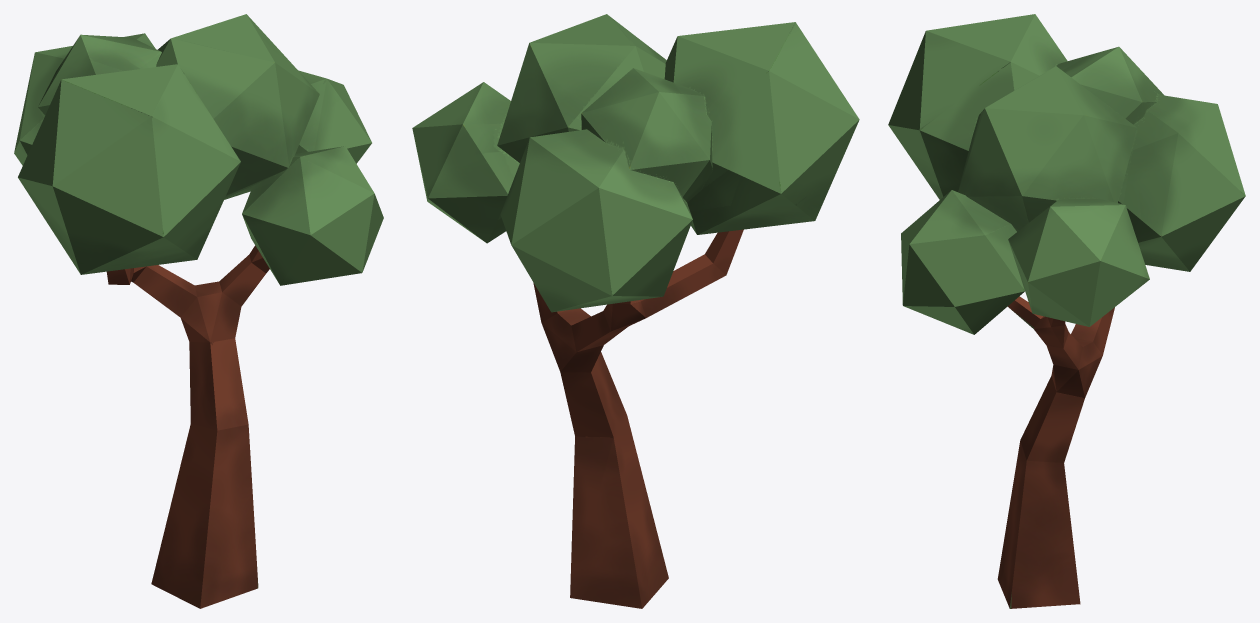
File: Bushy_Tree.fbx
3 views of the same model, side by side, from view 1: azimuth 30°, elevation 25°; view 2: azimuth 150°, elevation 25°; view 3: azimuth 270°, elevation 25° (orthographic). The views are drawn at different scales.
Visible parts, largest first — view 1: Bushy_Tree; view 2: Bushy_Tree; view 3: Bushy_Tree.
Part boxes in pixels (x1,y1,x2,y2): Bushy_Tree: (14,14,383,608); Bushy_Tree: (412,14,859,608); Bushy_Tree: (888,14,1245,608).
Bounding box in the file's own units: 913 × 1305 × 823.
